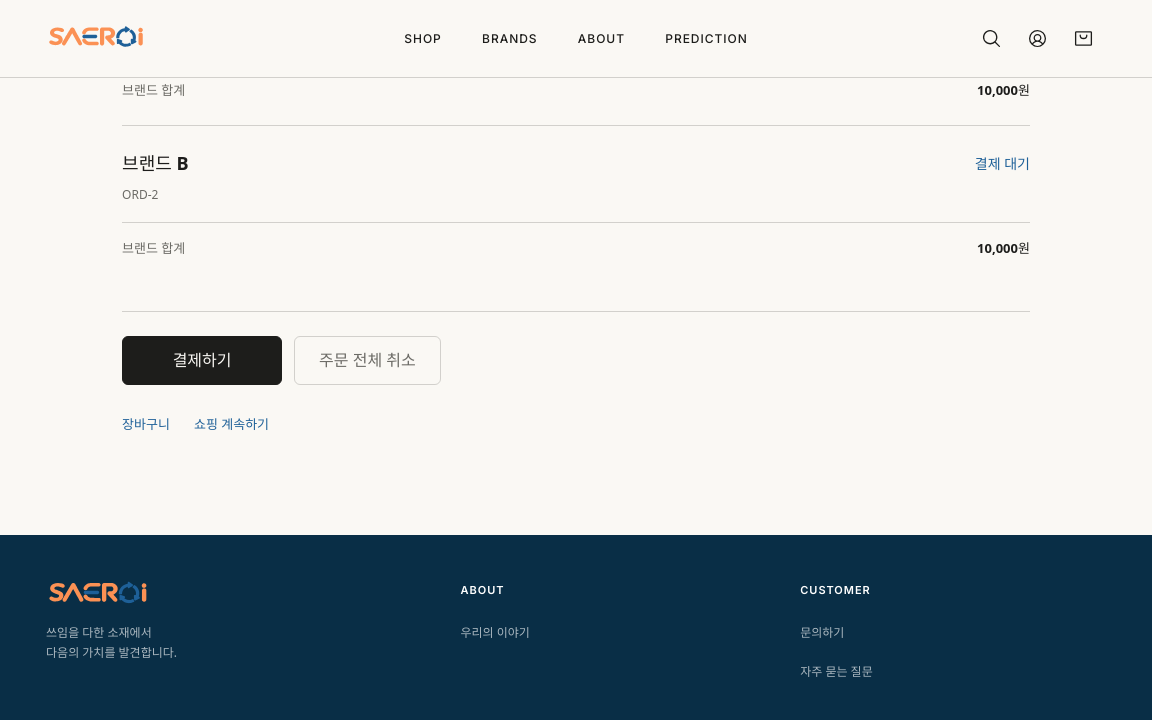
Test: order group checkout › explains the payment deadline when payment preparation returns the expiry code
(page scrolled)
Click the button "결제하기": (202, 360) [122, 336, 282, 385]
(page scrolled)
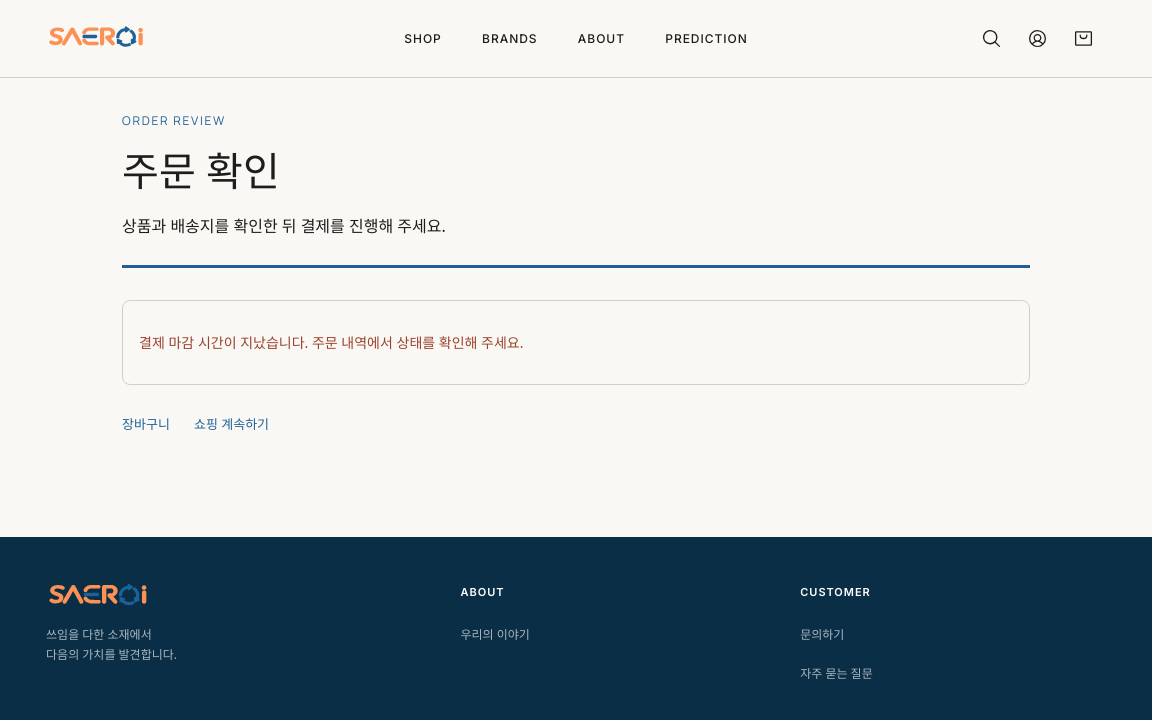
Expected: the message shows "결제 마감 시간이 지났습니다", [139, 333, 524, 352]
